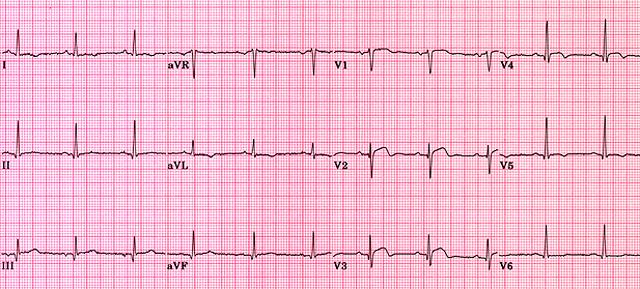Lead_I: (1, 25, 166, 84)
Lead_II: (0, 112, 167, 182)
Lead_III: (1, 225, 167, 279)
Lead_V1: (335, 38, 501, 81)
Lead_V2: (333, 136, 500, 177)
Lead_V3: (331, 227, 500, 278)
Lead_V4: (500, 10, 640, 82)
Lead_V5: (500, 108, 640, 189)
Lead_V6: (496, 216, 640, 279)
Lead_aVF: (167, 222, 333, 276)
Lead_aVL: (166, 126, 332, 179)
Lead_aVR: (166, 24, 334, 84)
